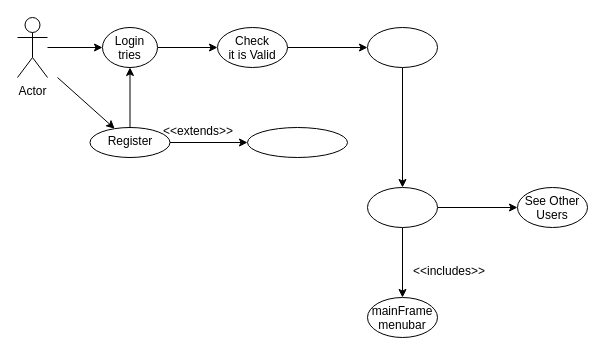
Some shapes in this 605 by 355 pixel diagram are drawn without their labels. Here are the shapes that lost their labels. From the top down, the box of each, then its label:
(366, 26, 438, 68): Access main UI
(246, 126, 348, 158): newAccount()
(366, 186, 438, 228): uses Menubar
